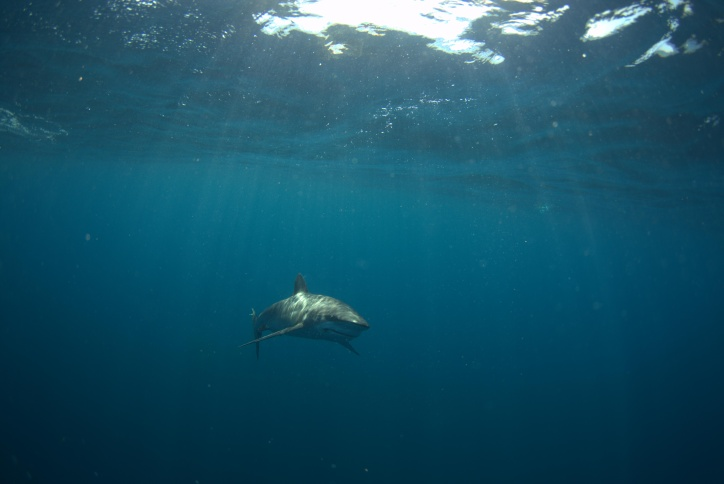Sedoso: (221, 251, 416, 383)
